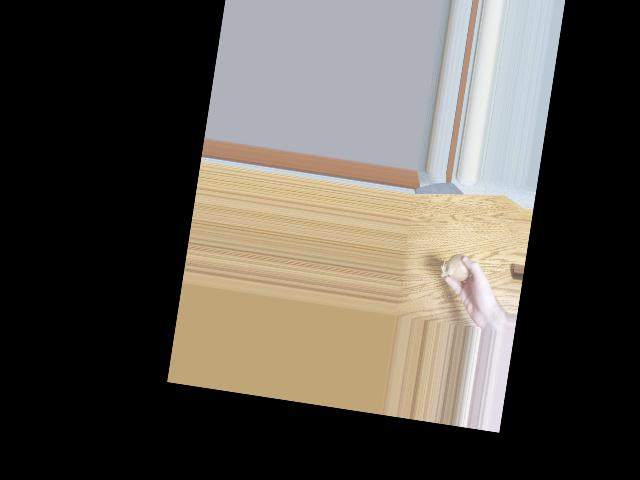onion: (444, 252, 473, 281)
